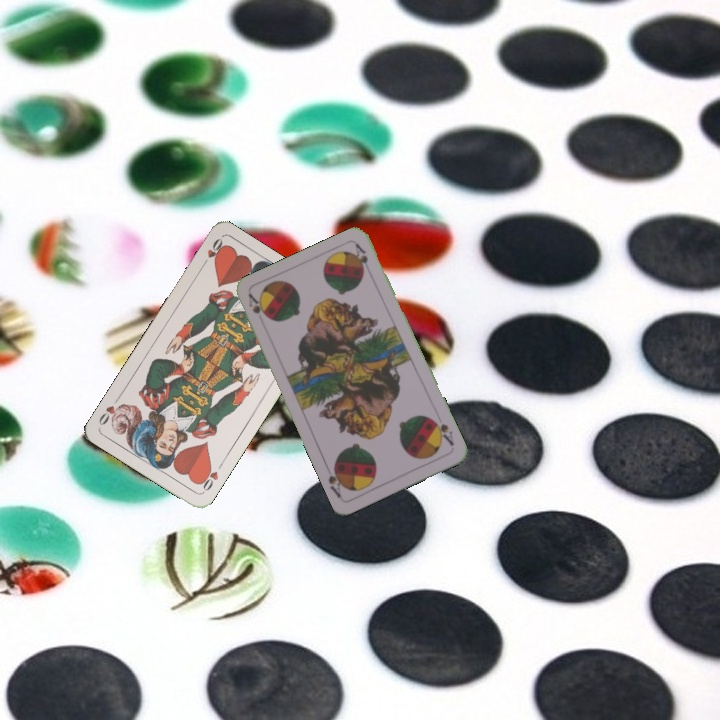HO: (195, 458, 226, 495), (198, 234, 227, 270)
SA: (428, 414, 457, 449), (244, 290, 270, 321)
